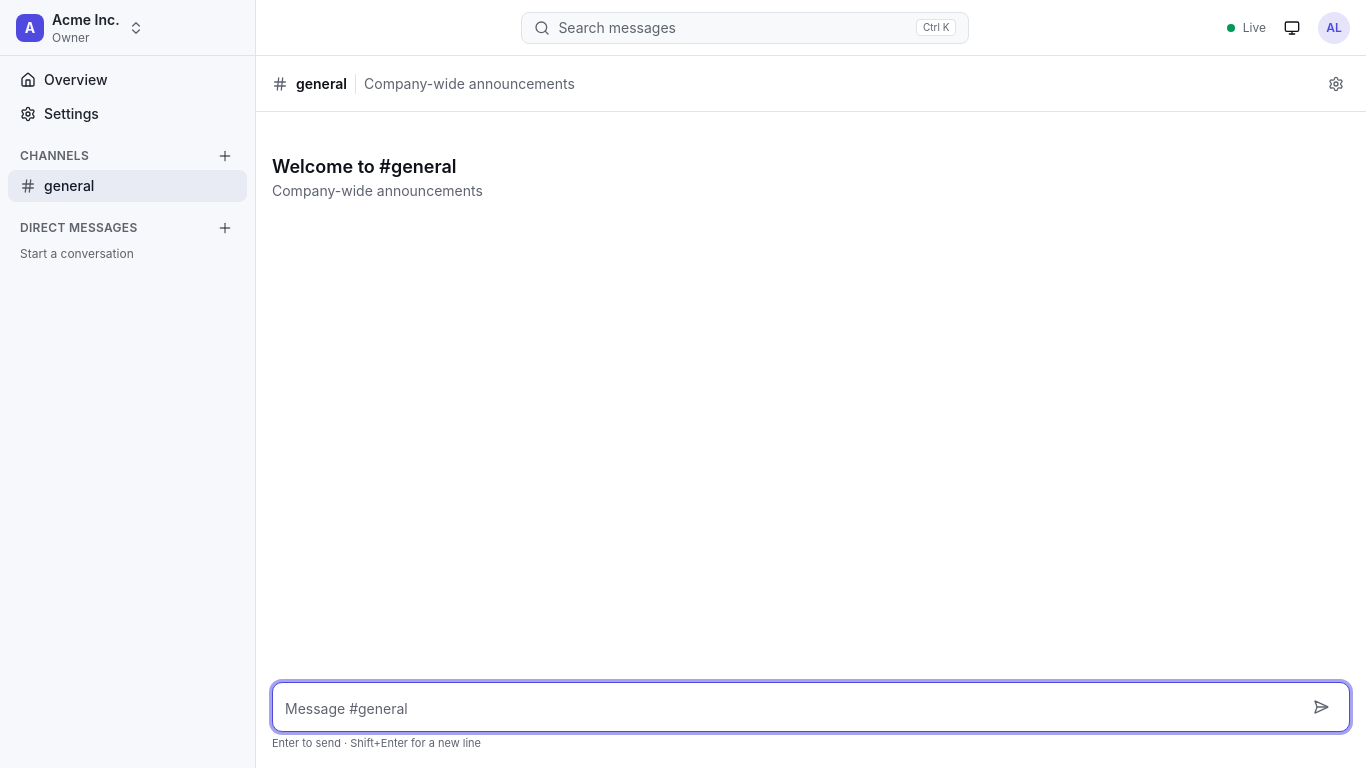
Test: chat navigation and sidebar › creates a private channel and opens it
Click the button named "Create channel" at {"x": 225, "y": 156}, box [215,146,235,166]
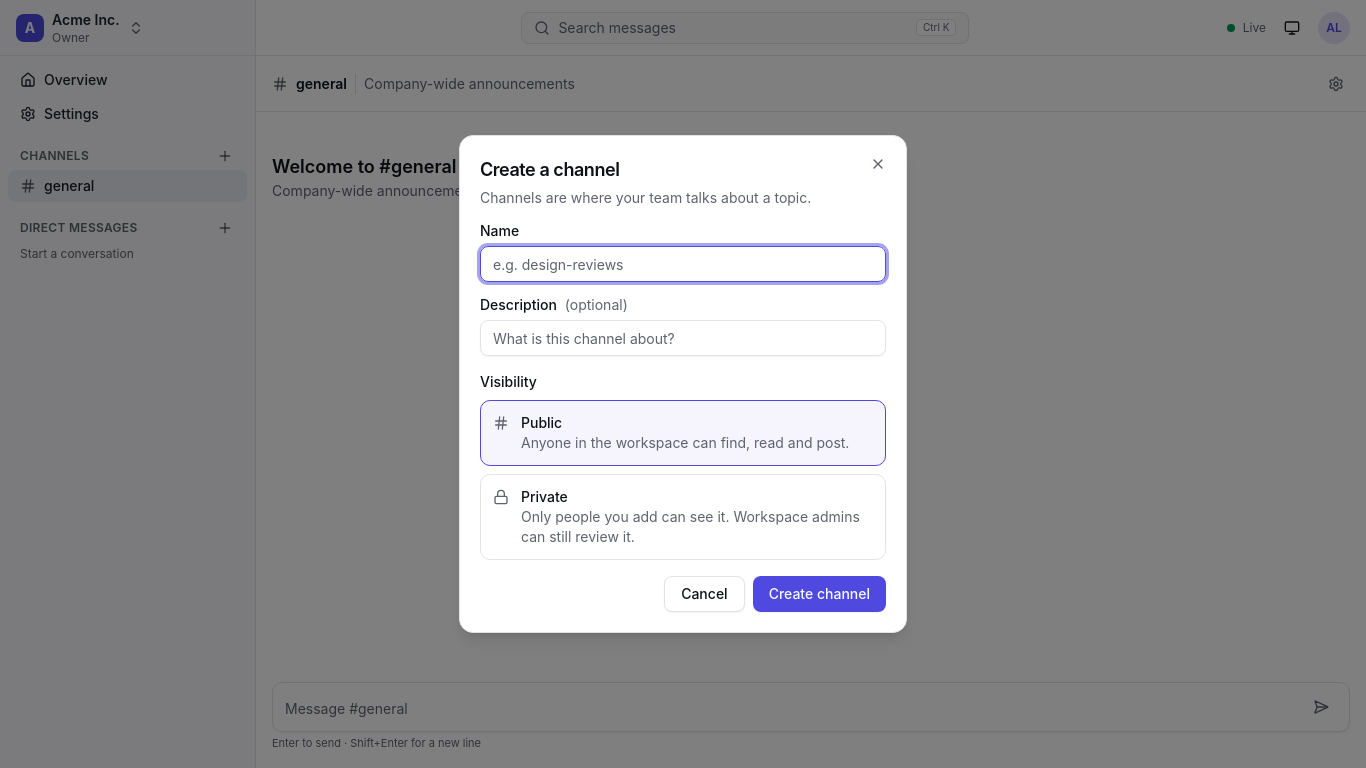
Type "design" into the field labelled "Name" at {"x": 683, "y": 264}, box [480,246,886,282]
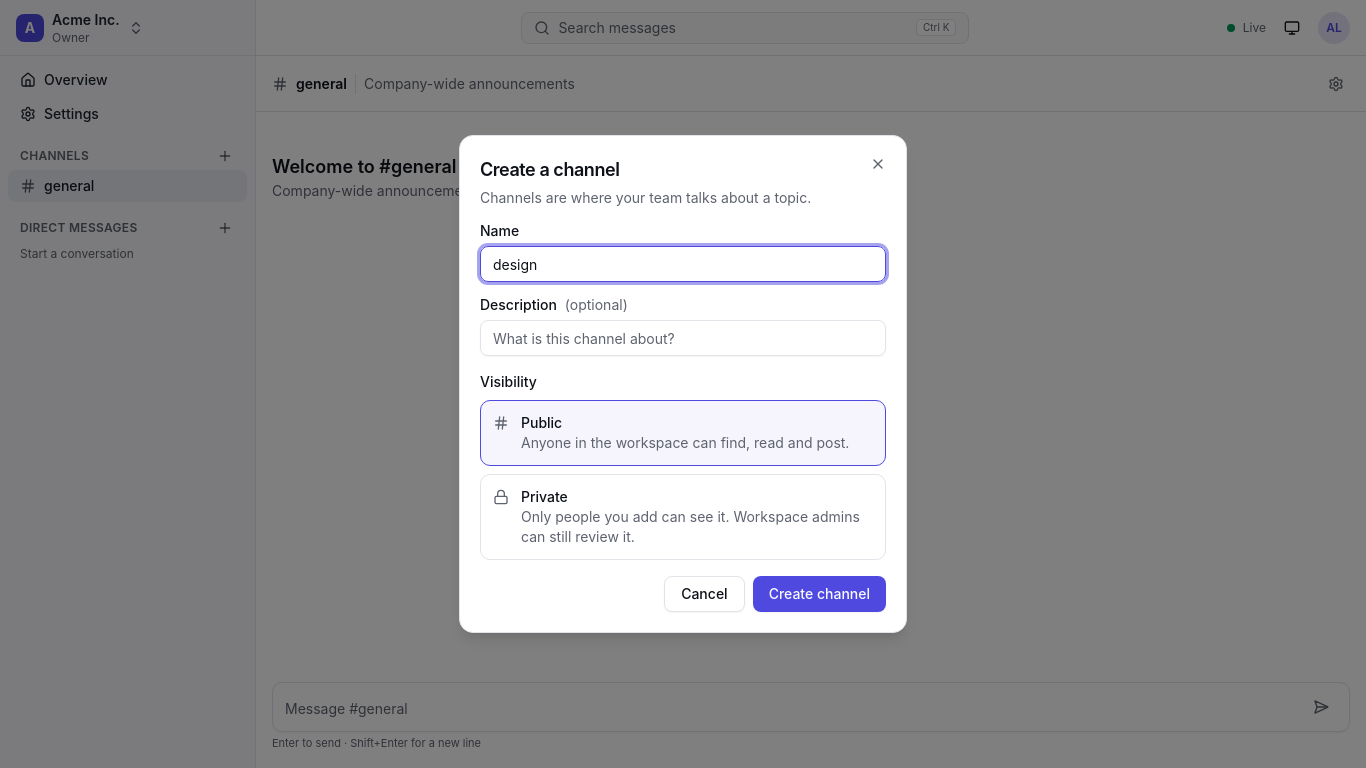
Click the text "Private" at {"x": 544, "y": 496}, box [521,488,568,505]
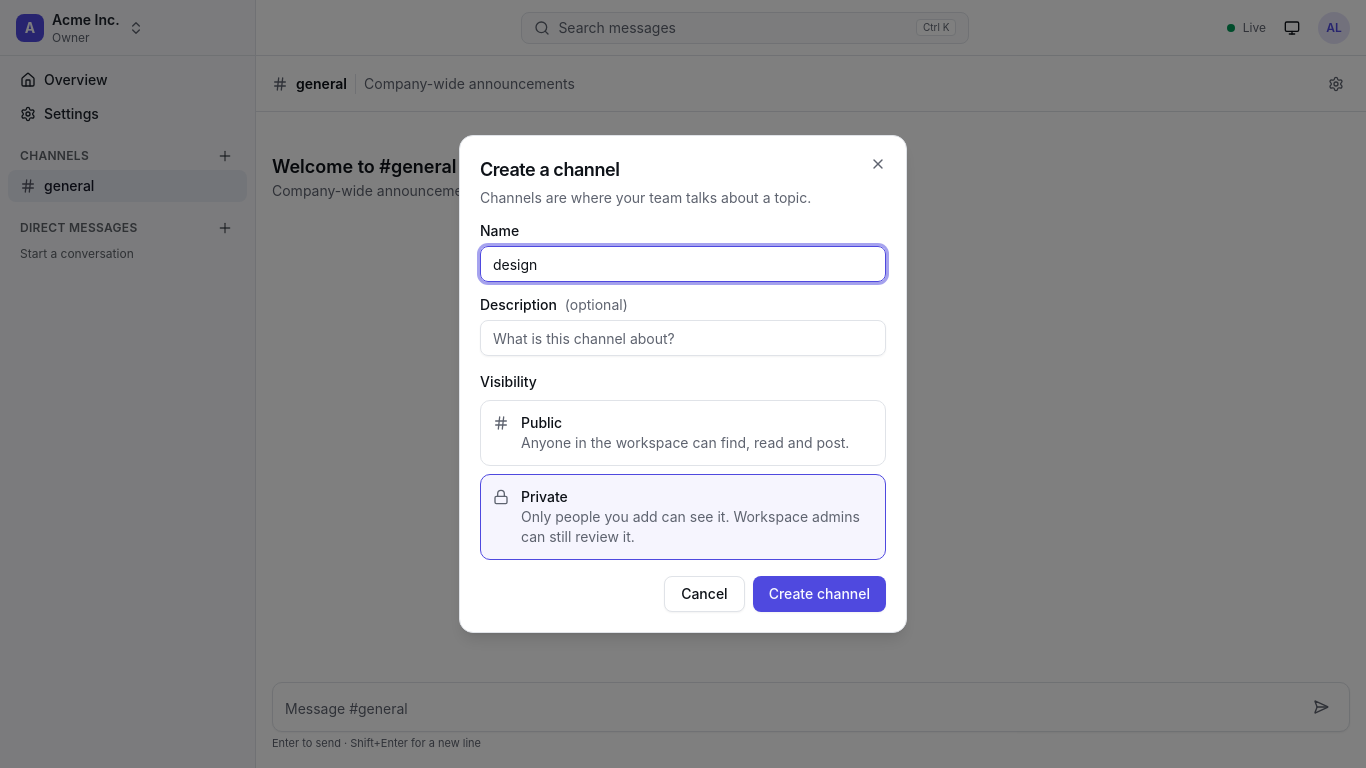
Click the button "Create channel" at {"x": 819, "y": 594}, box [753,576,886,612]
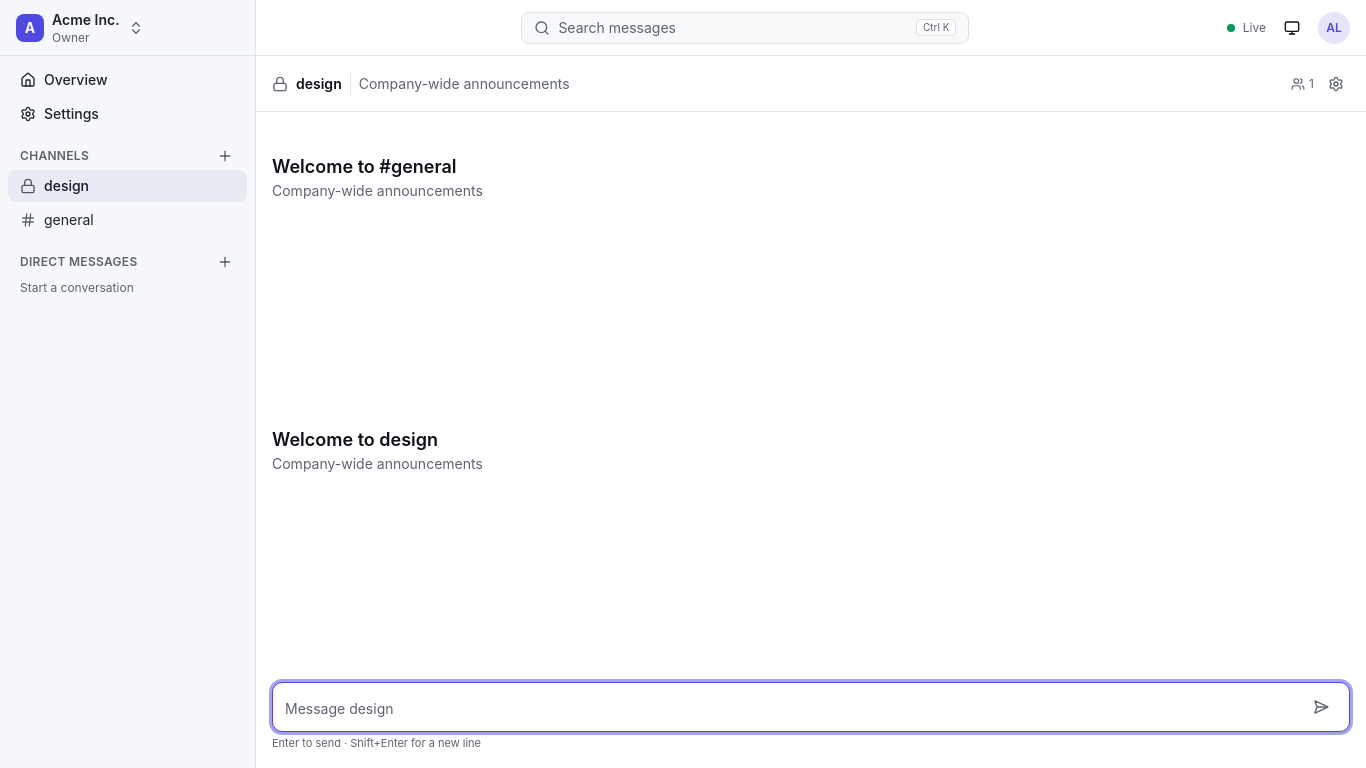
Result: the text "Welcome to design" is shown at [272,429,438,450]
Result: the link "design" is shown at [8,170,247,202]
